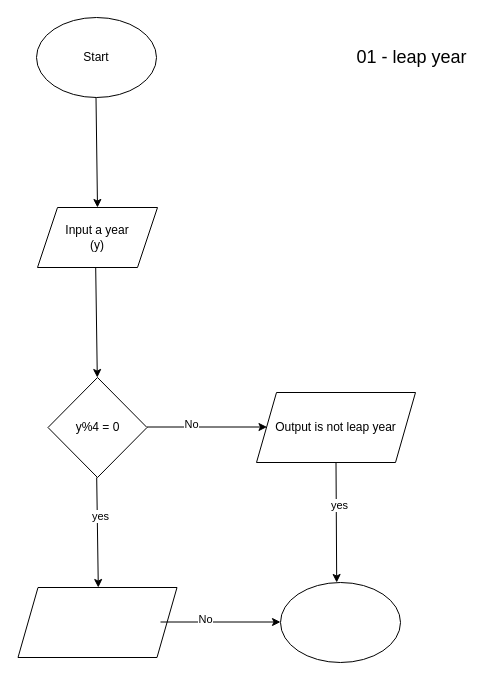
The diagram is 493 pixels wide and 680 high, and some of its shapes have lost their labels. The shapes that lost their labels are listed below. From the top down, each one's box as (x1, y1, x2, y2) in pixels, then its label:
(17, 586, 177, 658): Output is leap year
(280, 582, 400, 662): Stop
